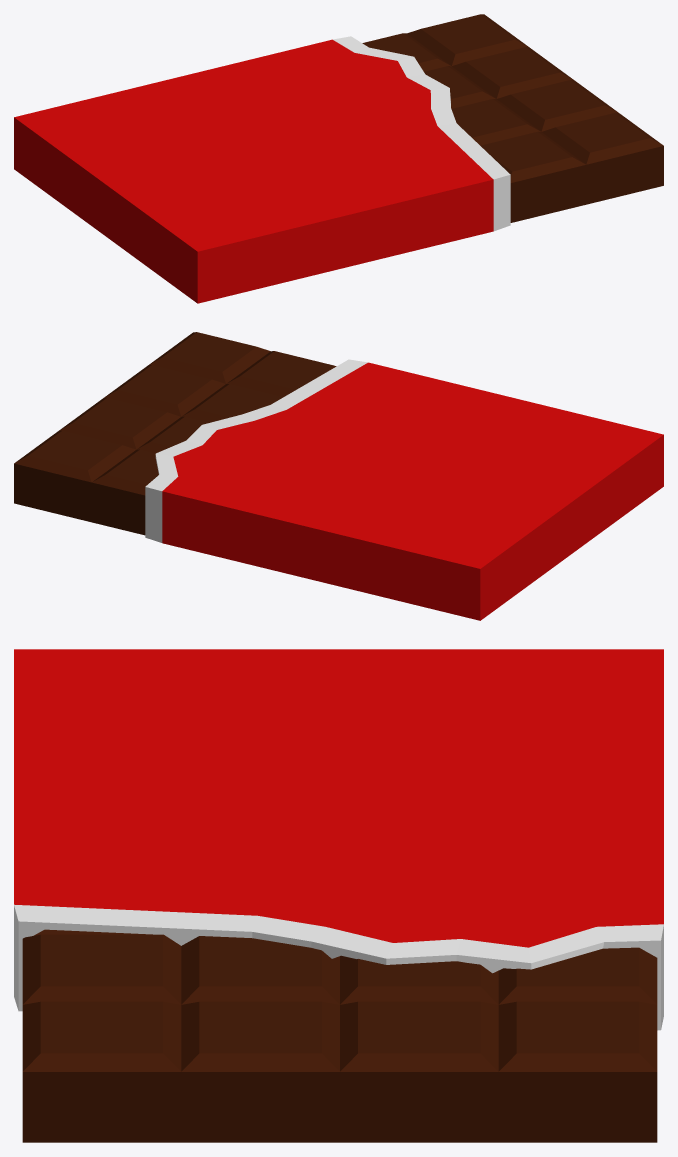
Rendered from Chocolate.fbx.
3 views of the same model, one above another, from view 1: azimuth 30°, elevation 25°; view 2: azimuth 150°, elevation 25°; view 3: azimuth 270°, elevation 25° (orthographic). The views are drawn at different scales.
Parts seen in each view (by area): view 1: Chocolate; view 2: Chocolate; view 3: Chocolate.
Part boxes in pixels (left/top/right/bottom): Chocolate: left=14, top=14, right=663, bottom=303; Chocolate: left=14, top=332, right=663, bottom=620; Chocolate: left=14, top=649, right=663, bottom=1142.
Size of the model in its own units: 121 by 12.78 by 81.92.
